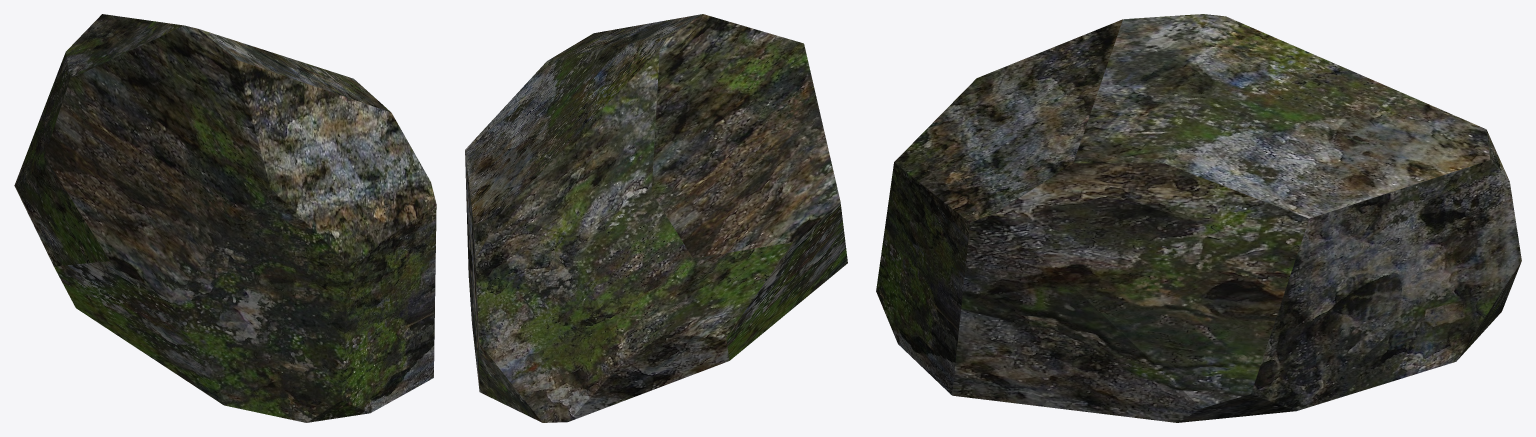
The model's file is Stone3.2.obj.
3 renders of one model, left to right at view 1: azimuth 30°, elevation 25°; view 2: azimuth 150°, elevation 25°; view 3: azimuth 270°, elevation 25°, orthographic. The views are drawn at different scales.
Parts seen in each view (by area): view 1: Stone3.2_Cube.002; view 2: Stone3.2_Cube.002; view 3: Stone3.2_Cube.002.
Part boxes in pixels (x1,y1,x2,y2): Stone3.2_Cube.002: (14, 14, 436, 422); Stone3.2_Cube.002: (465, 14, 847, 422); Stone3.2_Cube.002: (876, 14, 1521, 422).
Size of the model in its own units: 1.62 by 1.61 by 2.95.
Materials: 1 (1 with a texture image).
